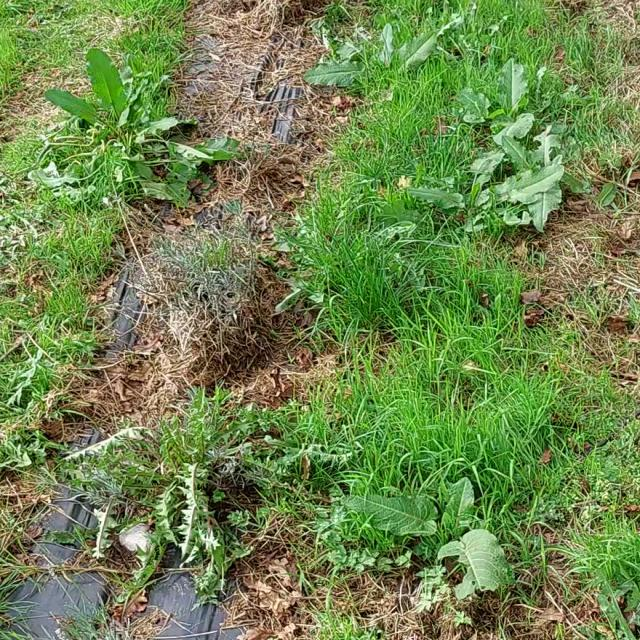organic waste: (335, 454, 542, 616), (20, 73, 217, 228), (376, 131, 598, 243), (300, 0, 460, 104), (436, 37, 579, 152)
